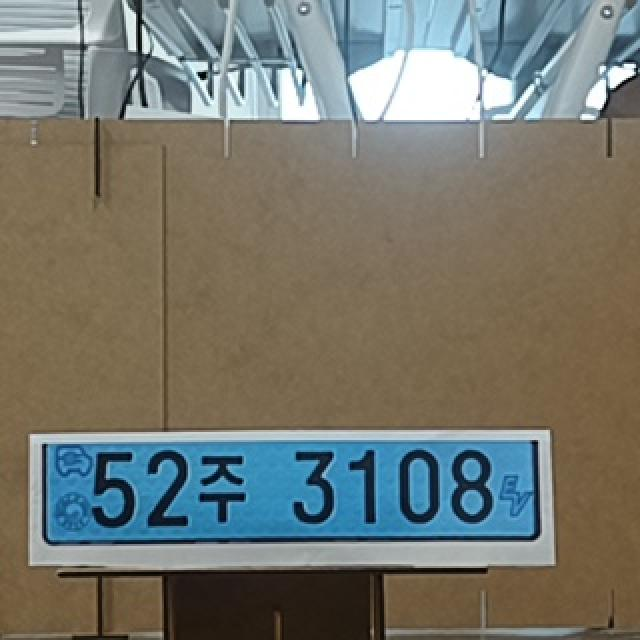electric: (42, 444, 538, 543)
